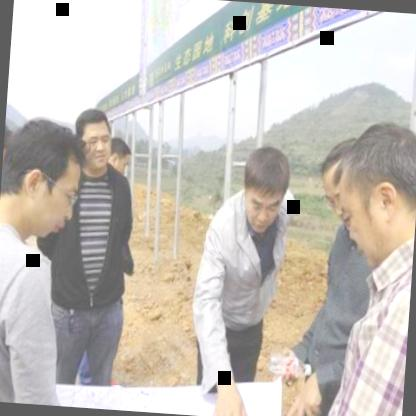head: (328, 117, 416, 279), (0, 111, 87, 242), (234, 136, 296, 236), (316, 136, 368, 244), (70, 105, 116, 175), (103, 132, 139, 184)
